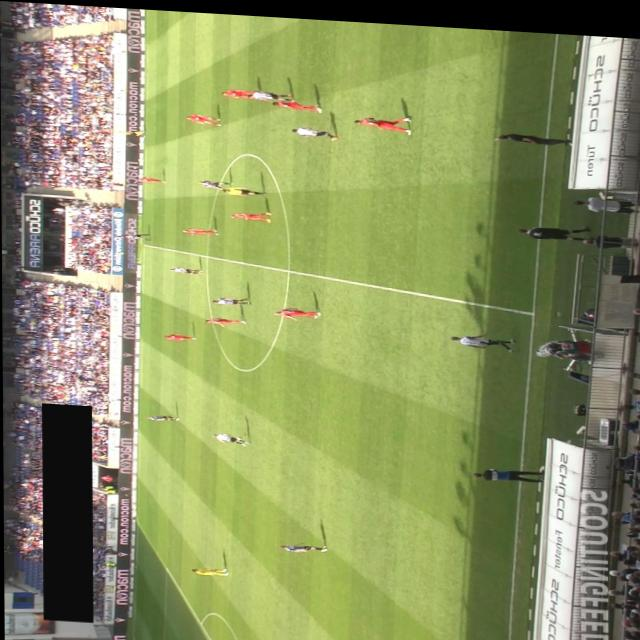goalkeeper: (190, 563, 228, 573)
player: (450, 325, 516, 346), (354, 108, 413, 130), (273, 303, 321, 318), (279, 536, 327, 550), (292, 122, 338, 136), (271, 96, 322, 108), (246, 86, 292, 99), (229, 206, 271, 220), (211, 429, 250, 443), (186, 110, 222, 123), (221, 84, 256, 96), (204, 313, 246, 323), (212, 293, 250, 303), (196, 177, 232, 187), (163, 330, 197, 339), (181, 224, 219, 232), (120, 230, 150, 239), (168, 264, 203, 271), (145, 412, 179, 419), (135, 174, 167, 181)
referee: (221, 183, 267, 194), (115, 126, 147, 136)
